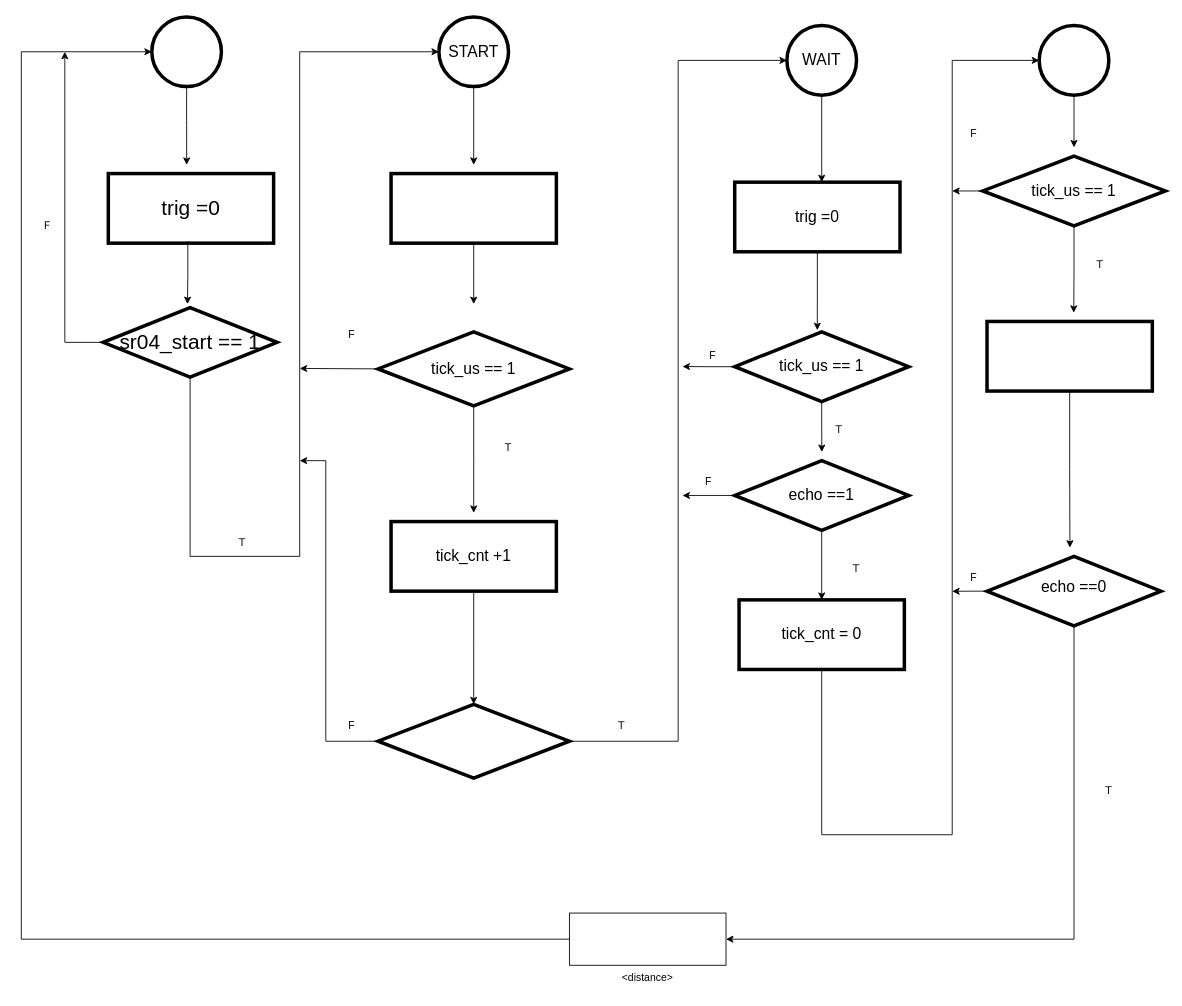
The diagram is 1182 pixels wide and 1006 high, and some of its shapes have lost their labels. Here are the shapes that lost their labels. From the top down, the centre of each, then its label:
pixel 186 51: IDLE
pixel 1073 59: Respose
pixel 473 207: trig = 1
pixel 1069 355: tick_cnt ++
pixel 473 741: tick_cnt >= 11
pixel 647 938: tick_cnt /58
